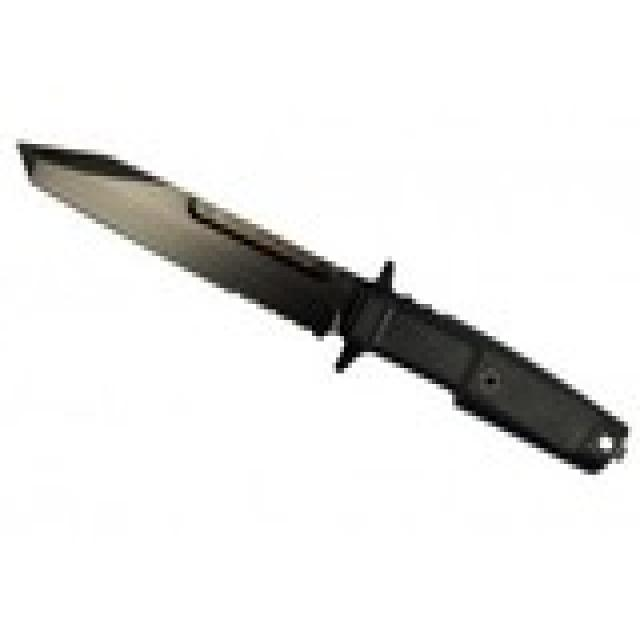Knife: (12, 107, 640, 496)
